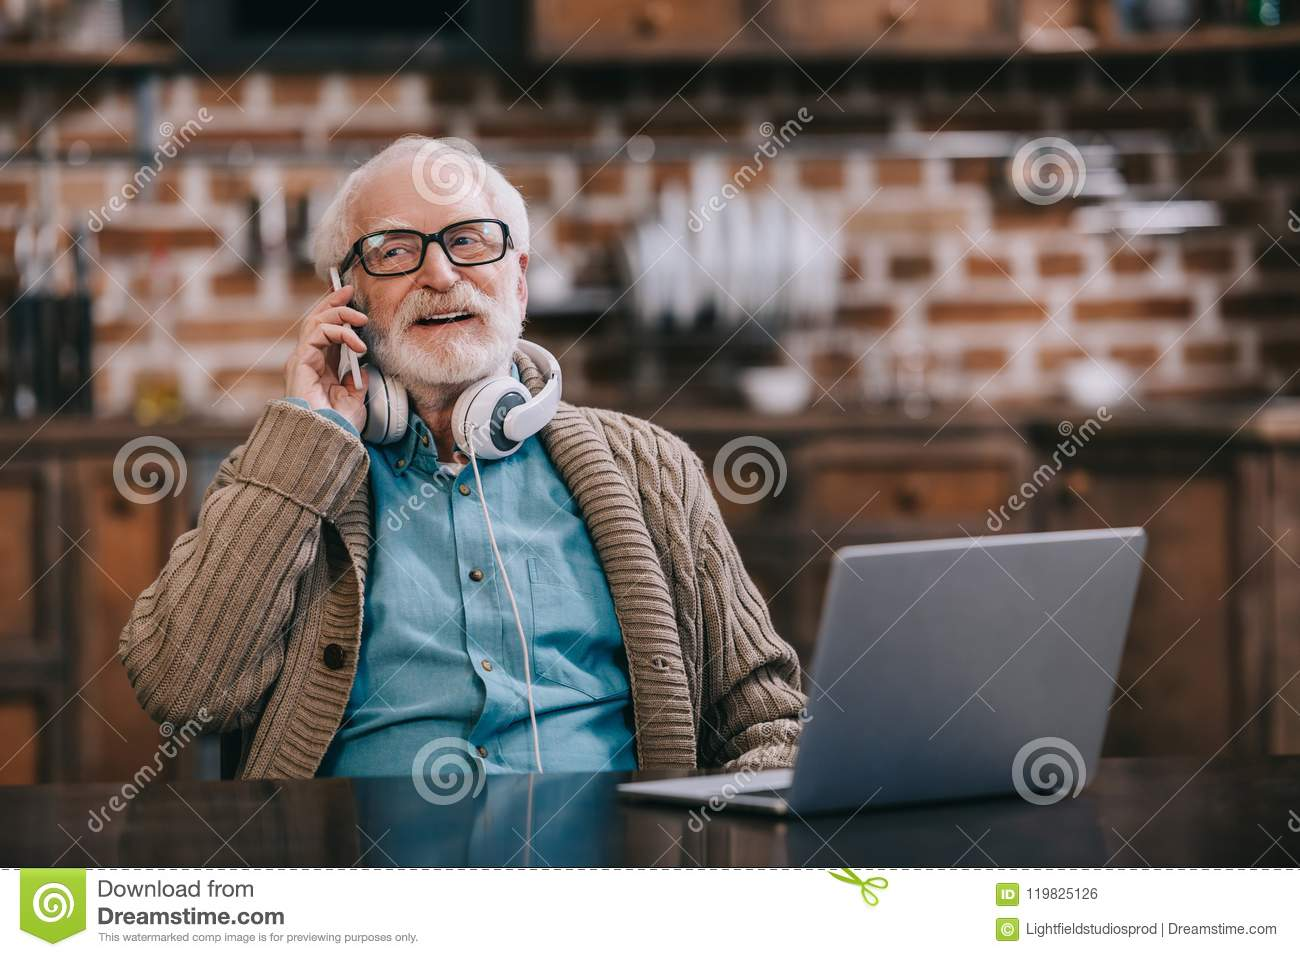phone: (320, 255, 371, 398)
talk: (285, 206, 515, 441)
